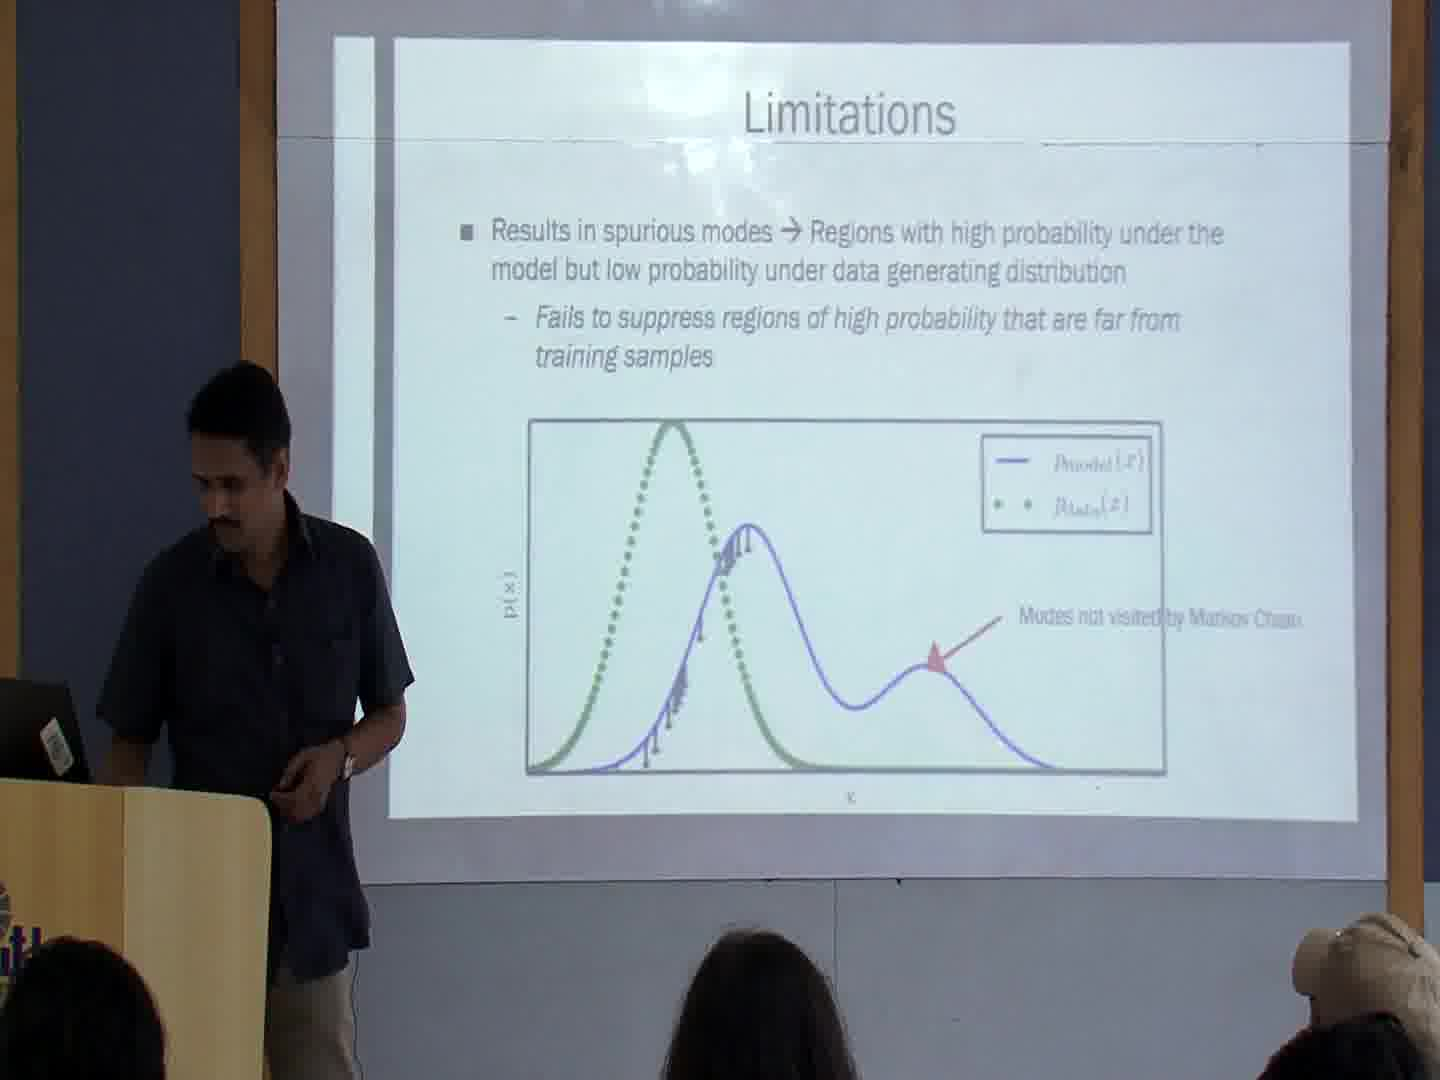slide: (333, 36, 1358, 822)
